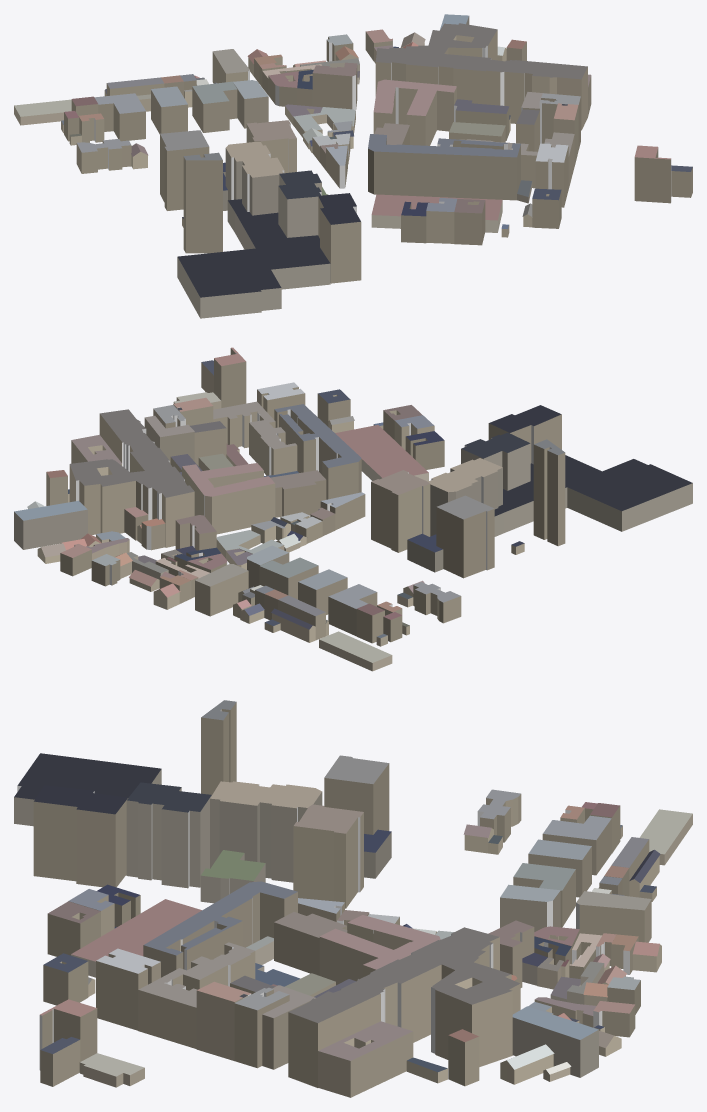
The picture shows the model from 3 angles, top to bottom: view 1: azimuth 30°, elevation 25°; view 2: azimuth 150°, elevation 25°; view 3: azimuth 270°, elevation 25°; orthographic projection. The views are drawn at different scales.
Parts seen in each view (by area): view 1: tuile; view 2: tuile; view 3: tuile.
Boxes of the visible parts, x1,y1,x2,y2 form: tuile: (14,14,692,318); tuile: (14,347,692,671); tuile: (14,700,692,1097).
Size of the model in its own units: 309 by 53.52 by 279.
